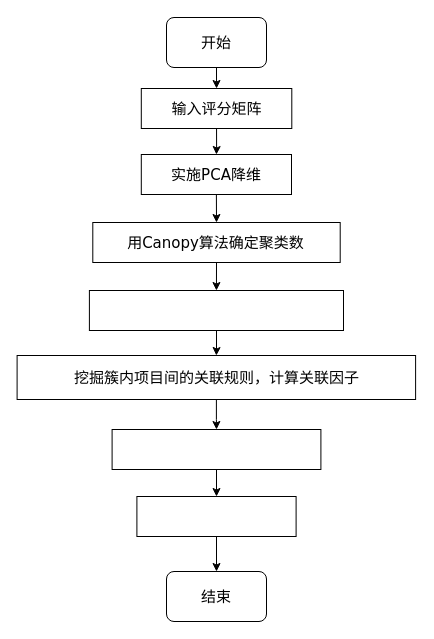
The diagram is 434 pixels wide and 639 high, and some of its shapes have lost their labels. The centre of each missing label's shape, as x and y in pixels:
在簇内进行评分预测: point 216,449
用K-means算法对用户聚类: point 216,310
输出top-N列表: point 216,516
